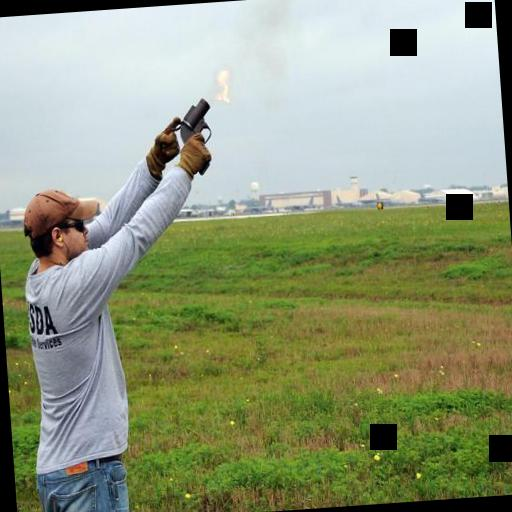Handgun: (162, 88, 220, 184)
